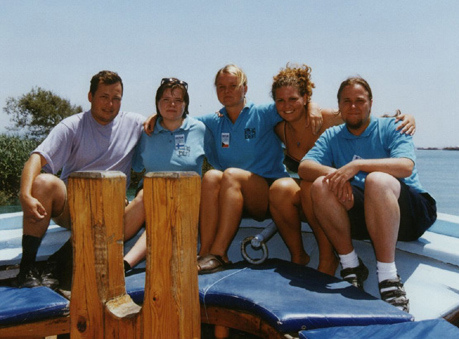person: (312, 75, 440, 305), (11, 64, 145, 277), (189, 64, 284, 263)
